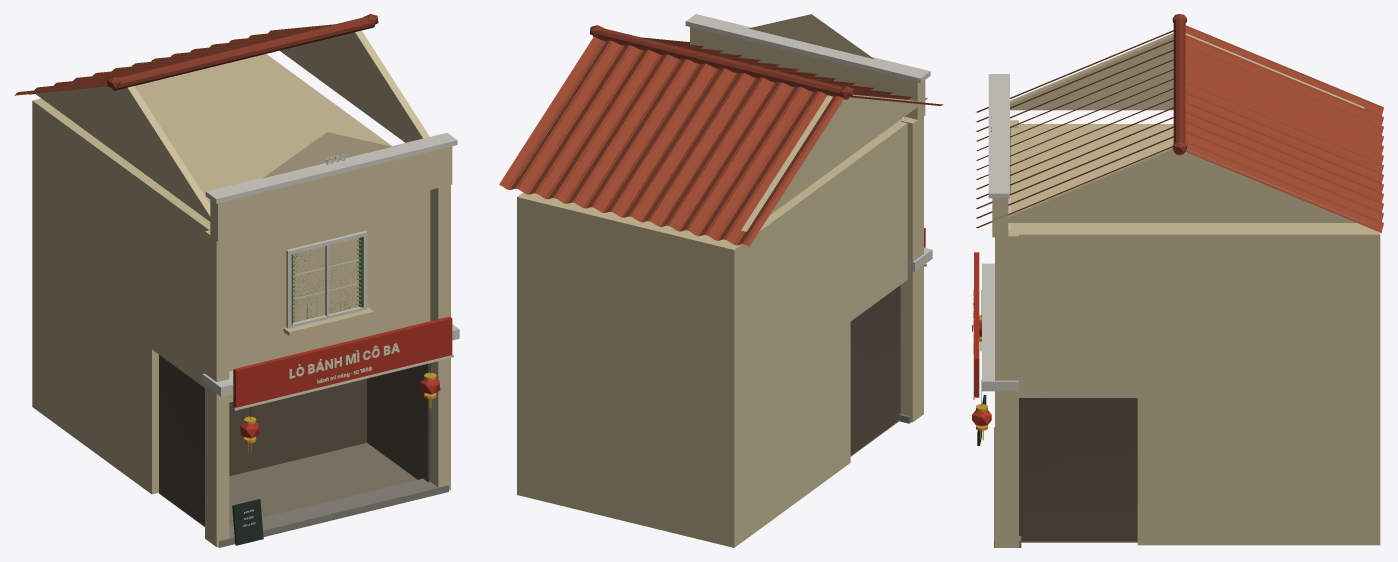
File: lo_banh.glb
The picture shows the model from 3 angles, left to right: view 1: azimuth 30°, elevation 25°; view 2: azimuth 150°, elevation 25°; view 3: azimuth 270°, elevation 25°; orthographic projection. The views are drawn at different scales.
Parts seen in each view (by area): view 1: lo_banh; view 2: lo_banh; view 3: lo_banh.
Part boxes in pixels (box(x1,y1,x2,y2)): lo_banh: box(14, 14, 459, 547); lo_banh: box(499, 14, 942, 547); lo_banh: box(972, 14, 1383, 547).
Bounding box in the file's own units: 5.99 × 8.65 × 7.81.
